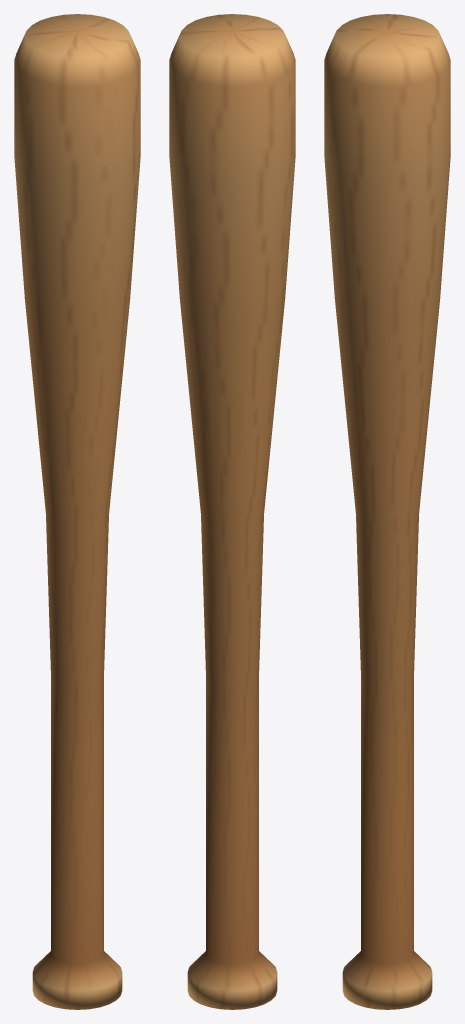
File: StarterWeapon.glb
The picture shows the model from 3 angles, left to right: view 1: azimuth 90°, elevation 25°; view 2: azimuth 210°, elevation 25°; view 3: azimuth 270°, elevation 25°; orthographic projection.
Visible parts, largest first — view 1: StarterWeapon; view 2: StarterWeapon; view 3: StarterWeapon.
Boxes of the visible parts, x1,y1,x2,y2 form: StarterWeapon: (14, 14, 140, 1009); StarterWeapon: (169, 14, 295, 1009); StarterWeapon: (324, 14, 450, 1009).
Bounding box in the file's own units: 0.48 × 4.02 × 0.48.
1 material, 1 textured.
